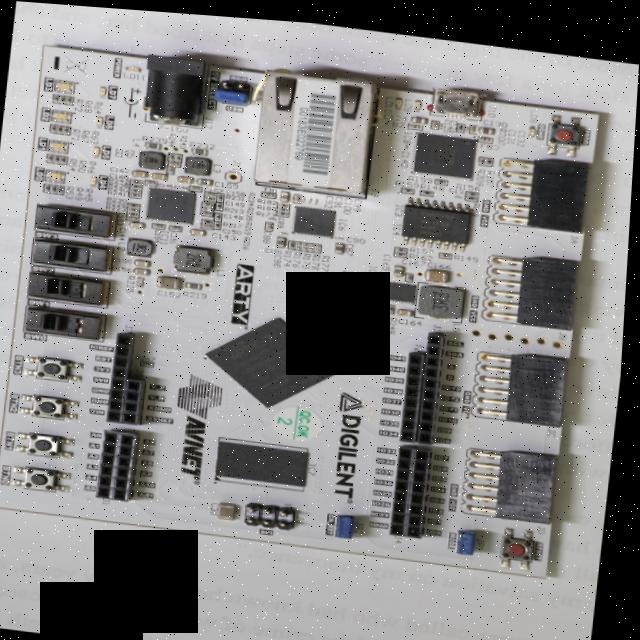2235: (28, 304, 110, 339), (32, 270, 114, 305), (35, 236, 117, 271), (38, 203, 120, 238), (19, 428, 83, 457), (24, 390, 85, 419), (16, 463, 78, 491), (504, 517, 542, 562), (29, 353, 90, 381), (547, 105, 585, 149)
IC: (203, 301, 350, 410), (220, 432, 315, 485), (403, 189, 478, 245), (414, 124, 479, 173), (149, 183, 200, 220), (295, 199, 340, 232), (389, 274, 420, 297)
LED: (53, 108, 75, 122), (50, 138, 72, 152), (55, 78, 77, 91), (47, 168, 68, 181), (127, 63, 143, 70), (395, 90, 404, 101), (529, 117, 538, 128), (415, 92, 423, 103), (92, 174, 100, 184), (100, 84, 107, 94), (98, 114, 105, 124), (95, 144, 102, 154)
capacitor 1V5: (426, 259, 454, 275), (223, 497, 244, 517), (159, 272, 187, 287), (478, 117, 497, 127), (191, 224, 212, 233), (135, 264, 156, 273), (336, 234, 348, 249), (133, 166, 152, 175), (197, 173, 216, 182), (399, 301, 418, 310), (396, 257, 408, 271), (412, 108, 430, 117), (153, 169, 171, 178), (131, 218, 149, 227), (137, 256, 155, 265), (281, 185, 293, 198), (179, 172, 197, 180), (278, 231, 290, 243), (407, 264, 418, 276), (191, 181, 205, 189), (172, 221, 186, 229), (155, 219, 169, 226), (203, 206, 216, 213), (146, 177, 160, 183), (204, 197, 218, 203), (170, 157, 183, 163), (204, 219, 217, 225), (169, 162, 177, 171), (268, 217, 276, 226), (208, 187, 220, 193), (296, 189, 304, 197), (378, 298, 386, 306), (472, 116, 478, 126), (129, 213, 141, 218), (433, 113, 440, 121), (372, 297, 379, 305), (466, 116, 472, 124), (405, 137, 411, 142), (441, 115, 445, 121), (271, 212, 278, 215), (340, 230, 347, 233), (317, 193, 321, 197), (311, 192, 315, 196), (304, 191, 308, 195), (282, 227, 290, 229)
connector -5v-: (256, 61, 381, 193), (484, 239, 588, 322), (495, 142, 595, 224), (466, 435, 566, 516), (476, 339, 576, 418), (404, 321, 449, 438), (143, 50, 211, 125), (395, 437, 439, 532), (111, 329, 154, 422), (101, 425, 147, 500), (430, 77, 489, 114), (473, 319, 570, 340), (249, 494, 304, 526), (216, 84, 256, 101), (459, 523, 485, 547), (220, 75, 254, 89), (341, 508, 360, 532)
inductor F1: (418, 275, 470, 315), (175, 240, 218, 271), (127, 234, 157, 254), (187, 151, 215, 172), (141, 147, 170, 167), (409, 116, 425, 124), (263, 186, 279, 194), (480, 127, 494, 135)
resistor IR1: (188, 277, 207, 287), (146, 138, 164, 146), (193, 144, 211, 152), (403, 179, 417, 187), (145, 356, 159, 364), (139, 273, 149, 284), (436, 171, 451, 178), (397, 240, 411, 247), (443, 244, 456, 251), (396, 245, 411, 251), (279, 202, 293, 208), (422, 183, 436, 189), (375, 275, 389, 281), (374, 279, 388, 285), (48, 152, 57, 161), (290, 235, 299, 244), (131, 189, 144, 195), (204, 215, 217, 221), (279, 206, 292, 212), (129, 200, 144, 205), (466, 188, 481, 193), (59, 184, 67, 193), (62, 154, 70, 163), (54, 92, 62, 101), (130, 208, 142, 214), (130, 204, 142, 210), (133, 176, 145, 182), (170, 149, 178, 158), (280, 197, 292, 203), (468, 183, 480, 189), (374, 283, 386, 289), (373, 292, 385, 298), (52, 122, 59, 132), (65, 124, 72, 134), (132, 185, 145, 190), (206, 192, 219, 197), (46, 183, 54, 191), (458, 116, 466, 124), (391, 298, 399, 306), (53, 183, 60, 192), (56, 153, 63, 162), (177, 150, 184, 159), (59, 123, 65, 133), (133, 181, 145, 186), (219, 197, 225, 207), (61, 94, 68, 102), (68, 95, 75, 103), (220, 189, 226, 198), (488, 149, 494, 158), (481, 148, 487, 157), (385, 298, 391, 307), (218, 209, 224, 217), (218, 217, 224, 225)
